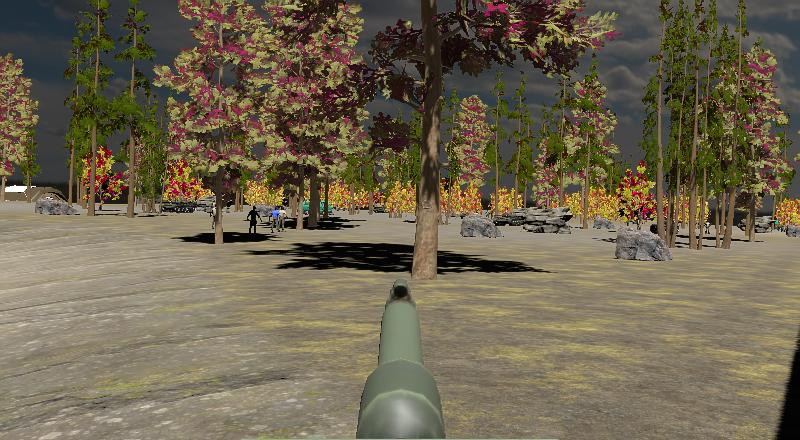Human: (270, 207, 280, 233)
car: (301, 198, 333, 219)
